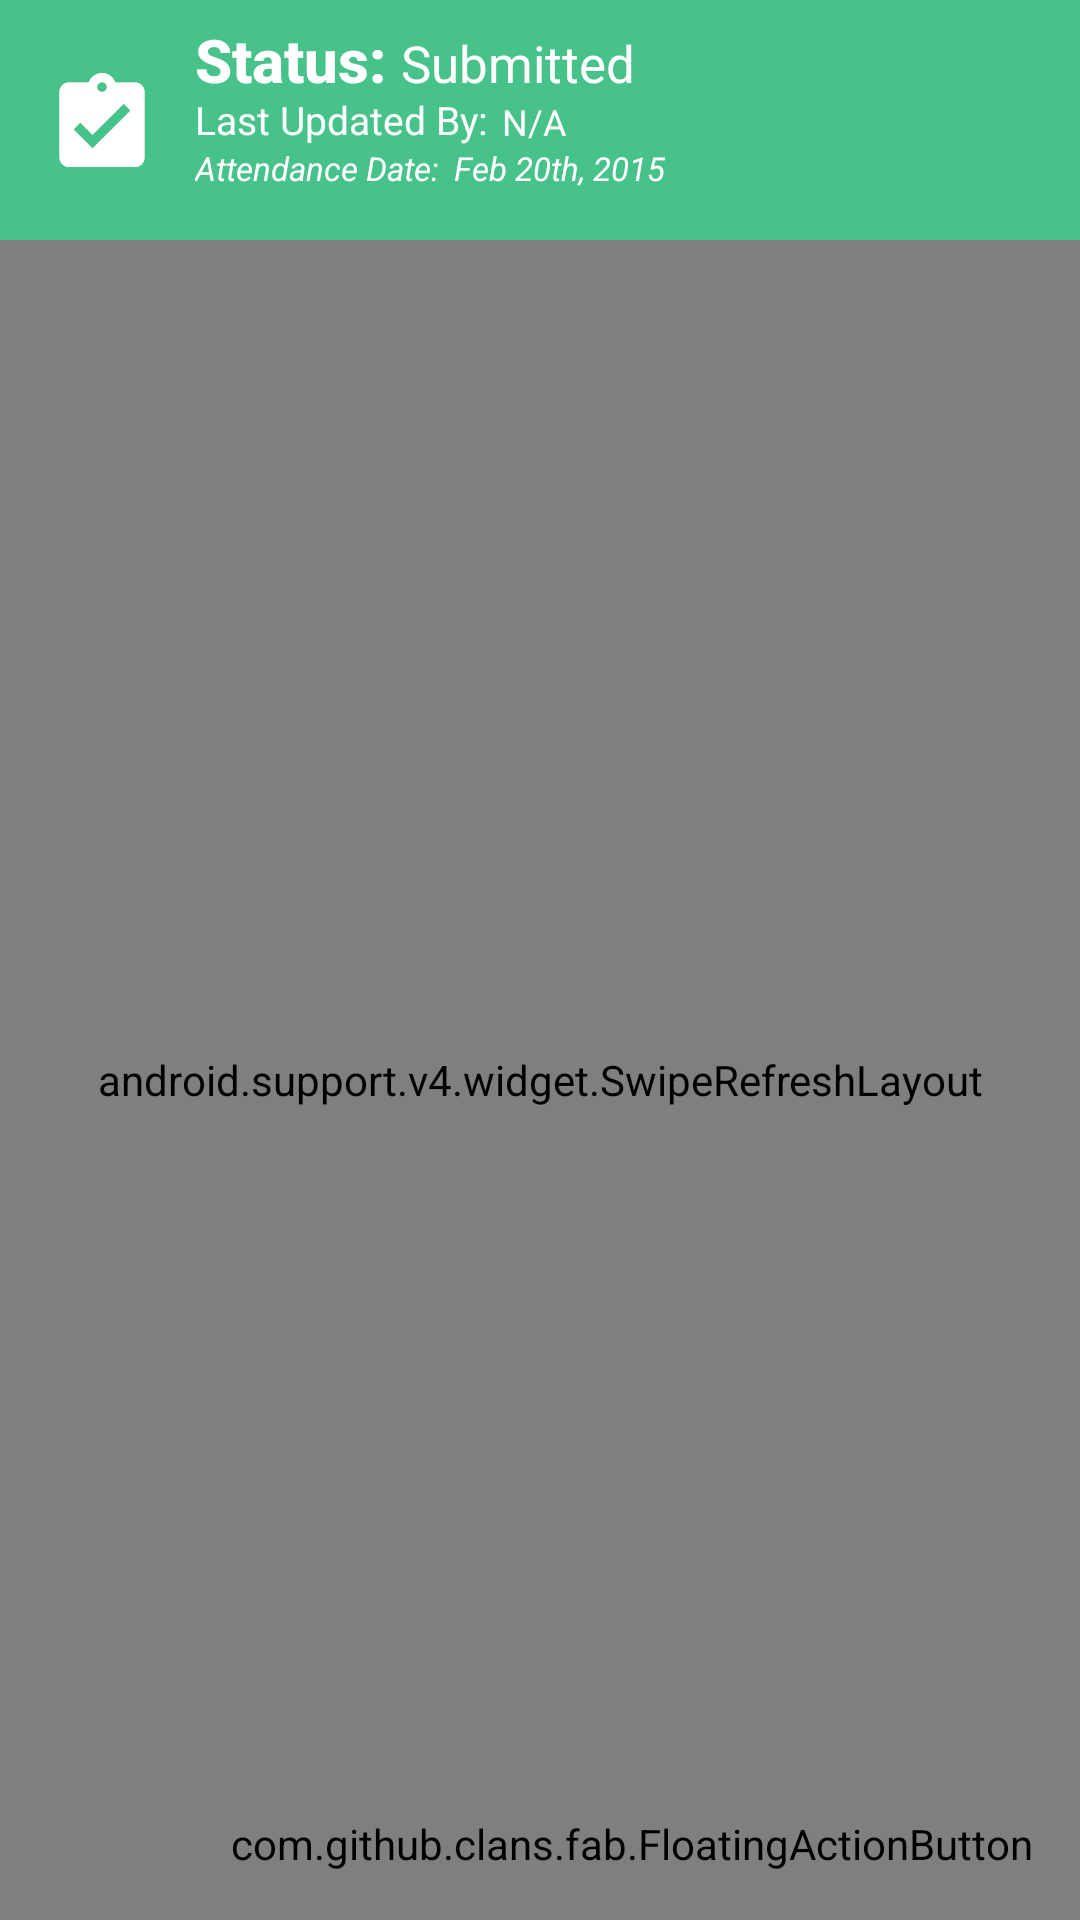

Named icons in this screenshot (1080px×1920px) and their bounding boxes, (x1,y1,x2,y2):
success: (59,73,145,167)
